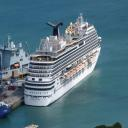cruises: (24, 12, 103, 107)
